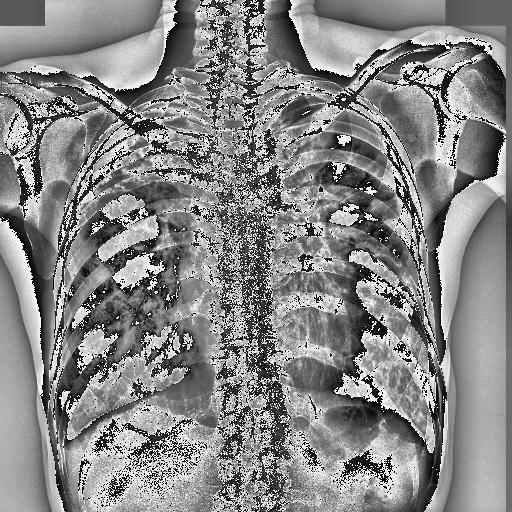1- Atelectasis: (282, 153, 410, 268), (76, 132, 190, 222)
11- Pleural thickening: (80, 91, 182, 203), (74, 100, 186, 192), (70, 97, 172, 178), (278, 85, 392, 138), (362, 109, 397, 155), (420, 436, 440, 470)
13- Pulmonary fibrosis: (264, 98, 426, 314), (69, 121, 196, 361), (282, 153, 410, 268), (306, 158, 414, 286), (68, 232, 176, 359), (74, 131, 206, 226), (76, 132, 190, 222)
5- ILD: (282, 153, 410, 268), (76, 132, 190, 222)
7- Lung Opacity: (306, 158, 414, 286)
